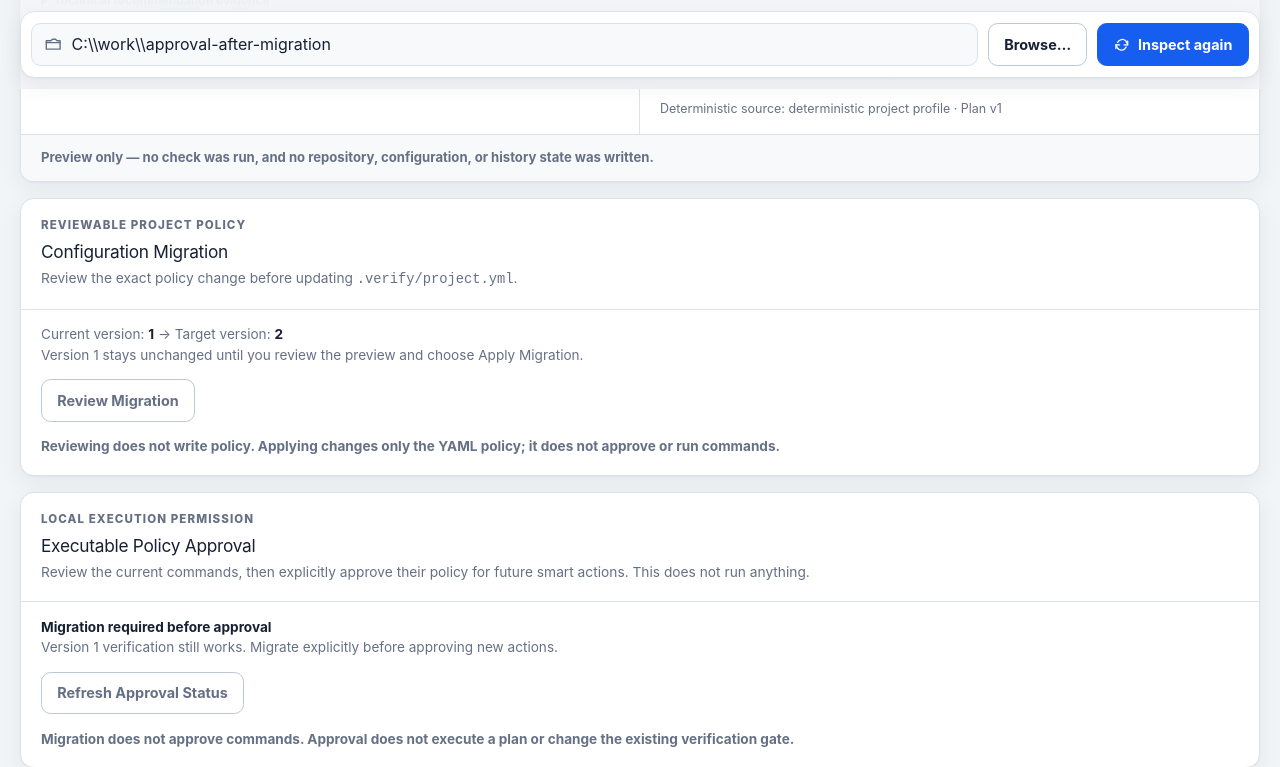
Test: desktop dashboard › does not approve a version-1 policy or a migration automatically
(page scrolled)
Expected: the text "Migration required before approval" is shown, [41, 619, 272, 635]
Expected: the button "Approve Current Policy" is not shown
Click the button "Review Migration": (118, 401) [41, 380, 195, 422]
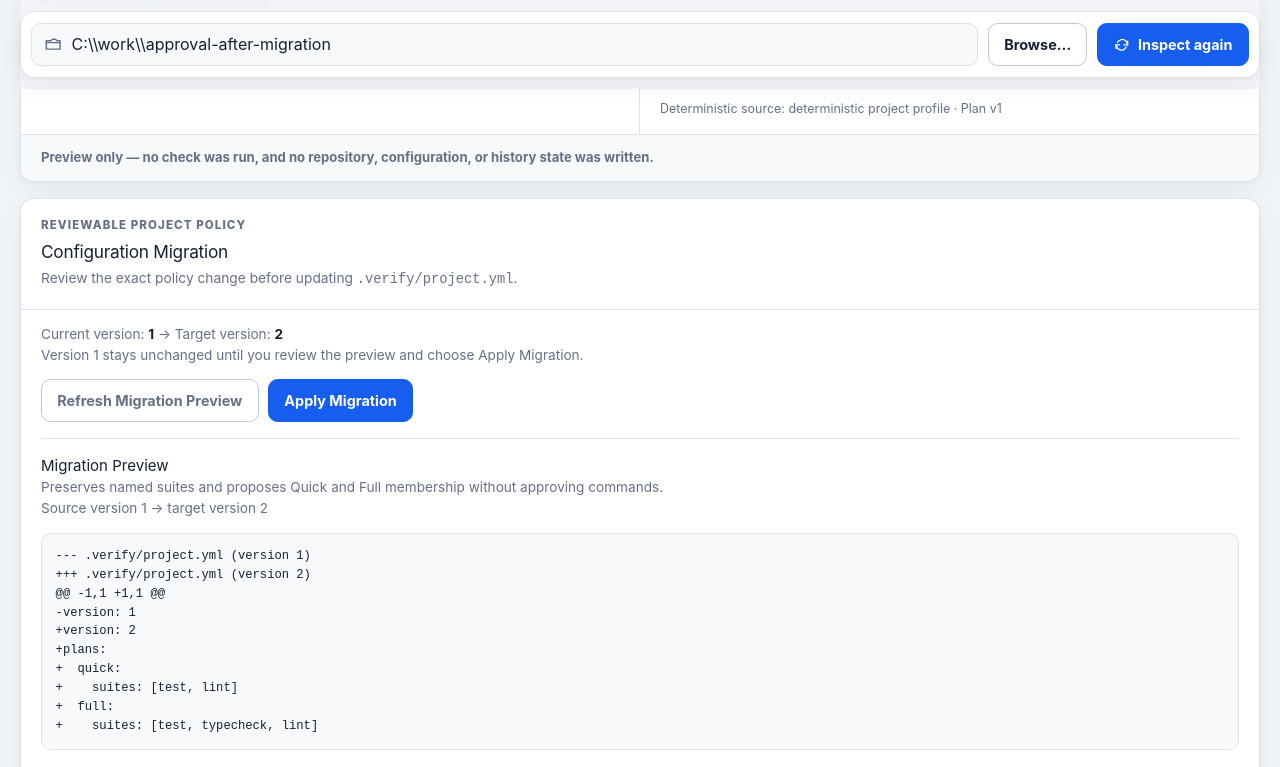
Click the button "Apply Migration": (340, 401) [268, 380, 413, 422]
(page scrolled)
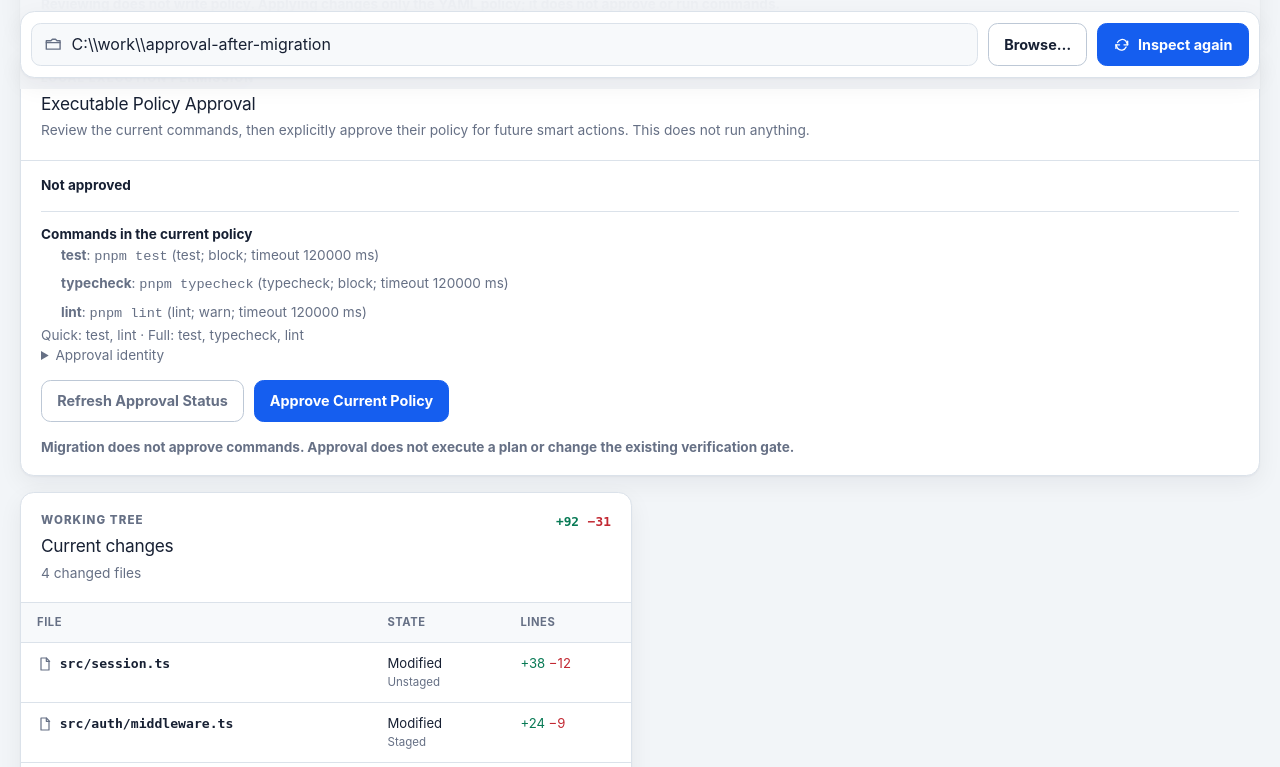
Expected: the text "Not approved" is shown, [41, 177, 131, 193]
Expected: the button "Approve Current Policy" is enabled, [254, 380, 449, 422]
